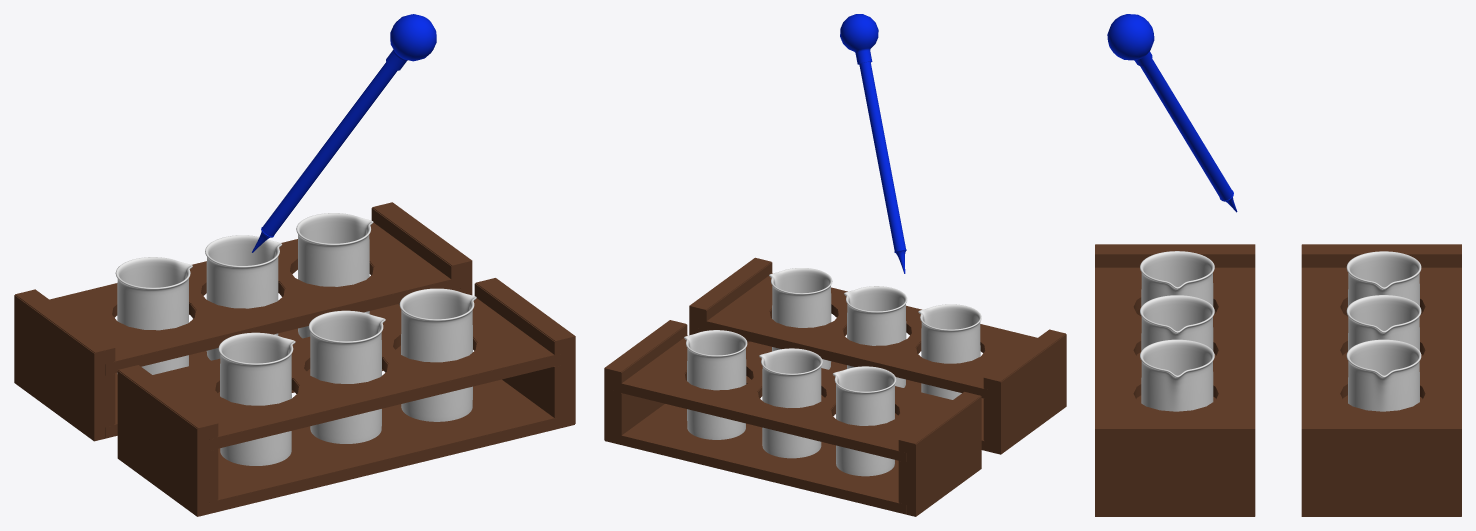
Rendered from COISAS DO LAB.fbx.
The picture shows the model from 3 angles, left to right: view 1: azimuth 30°, elevation 25°; view 2: azimuth 150°, elevation 25°; view 3: azimuth 270°, elevation 25°; orthographic projection. The views are drawn at different scales.
Visible parts, largest first — view 1: bancadinha.001, bancadinha, bancadinha.003, bancadinha.002, 250 mL Beaker.001, 250 mL Beaker.002, 250 mL Beaker.003, 250 mL Beaker.007, Cylinder, 250 mL Beaker.005, 250 mL Beaker.006; view 2: bancadinha.003, bancadinha.001, bancadinha.002, bancadinha, 250 mL Beaker.005, 250 mL Beaker.006, 250 mL Beaker.007, Cylinder, 250 mL Beaker.003, 250 mL Beaker.001, 250 mL Beaker.002; view 3: bancadinha.001, bancadinha.003, 250 mL Beaker.001, 250 mL Beaker.005, Cylinder, 250 mL Beaker.002, 250 mL Beaker.006, 250 mL Beaker.003, 250 mL Beaker.007, bancadinha.002, bancadinha.
Part boxes in pixels (x1,y1,x2,y2): bancadinha.001: (118,278,575,503); bancadinha: (117,283,574,516); bancadinha.003: (15,202,472,427); bancadinha.002: (14,208,471,441); 250 mL Beaker.001: (399,288,476,421); 250 mL Beaker.002: (308,310,385,443); 250 mL Beaker.003: (218,332,295,465); 250 mL Beaker.007: (115,257,192,374); Cylinder: (252,14,436,252); 250 mL Beaker.005: (296,213,373,338); 250 mL Beaker.006: (205,235,282,360); bancadinha.003: (604,320,980,515); bancadinha.001: (689,257,1065,453); bancadinha.002: (605,324,981,516); bancadinha: (698,262,1066,454); 250 mL Beaker.005: (684,330,747,439); 250 mL Beaker.006: (759,348,822,458); 250 mL Beaker.007: (833,366,896,476); Cylinder: (840,14,906,273); 250 mL Beaker.003: (918,304,981,399); 250 mL Beaker.001: (769,268,832,369); 250 mL Beaker.002: (844,286,907,387); bancadinha.001: (1095,244,1255,516); bancadinha.003: (1302,244,1461,516); 250 mL Beaker.001: (1140,339,1214,411); 250 mL Beaker.005: (1346,339,1421,411); Cylinder: (1107,14,1237,212); 250 mL Beaker.002: (1140,295,1214,350); 250 mL Beaker.006: (1346,295,1421,350); 250 mL Beaker.003: (1140,251,1214,306); 250 mL Beaker.007: (1346,251,1421,316); bancadinha.002: (1301,245,1461,516); bancadinha: (1095,245,1254,516).
Bounding box in the file's own units: 287 × 313 × 240.
